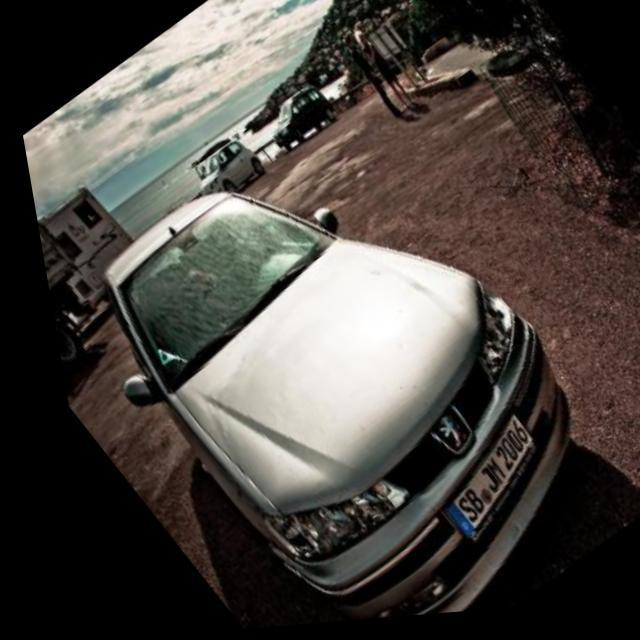license_plate: (396, 418, 551, 550), (270, 140, 279, 150)
